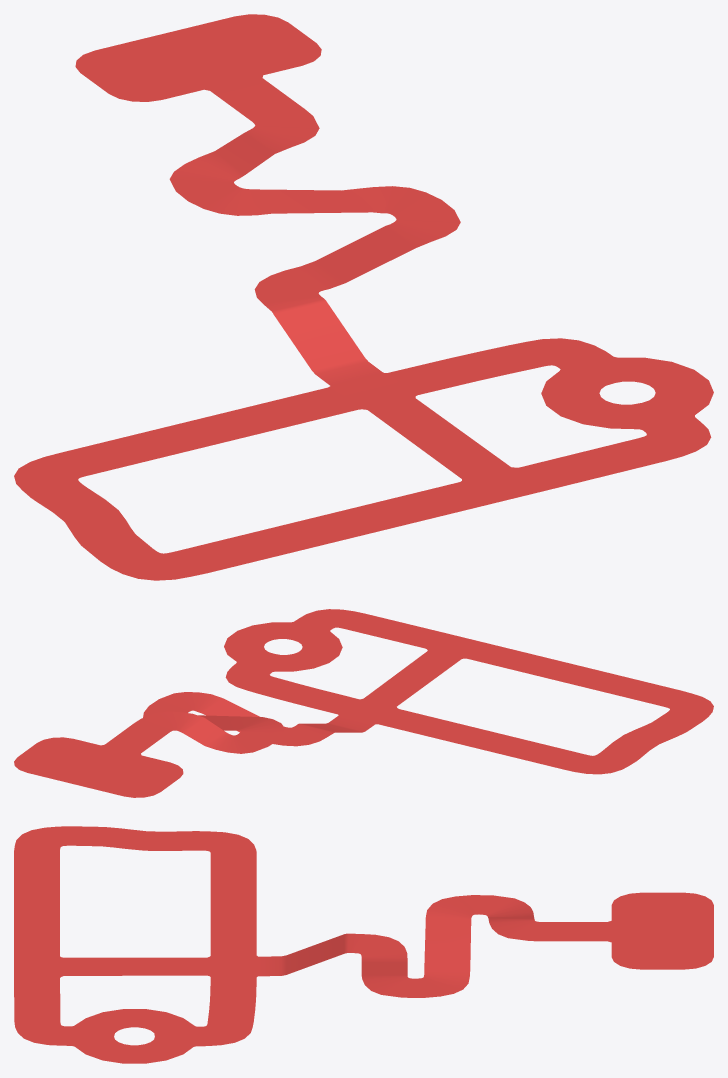
The model's file is Road_01.fbx.
3 renders of one model, top to bottom at view 1: azimuth 30°, elevation 25°; view 2: azimuth 150°, elevation 25°; view 3: azimuth 270°, elevation 25°, orthographic. The views are drawn at different scales.
Visible parts, largest first — view 1: Road; view 2: Road; view 3: Road.
Boxes of the visible parts, x1,y1,x2,y2 form: Road: (14, 14, 713, 580); Road: (14, 609, 713, 797); Road: (14, 826, 713, 1063).
Size of the model in its own units: 3661 by 542 by 4562.
